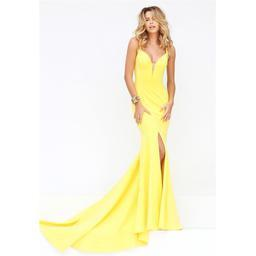dress: (40, 48, 184, 252)
